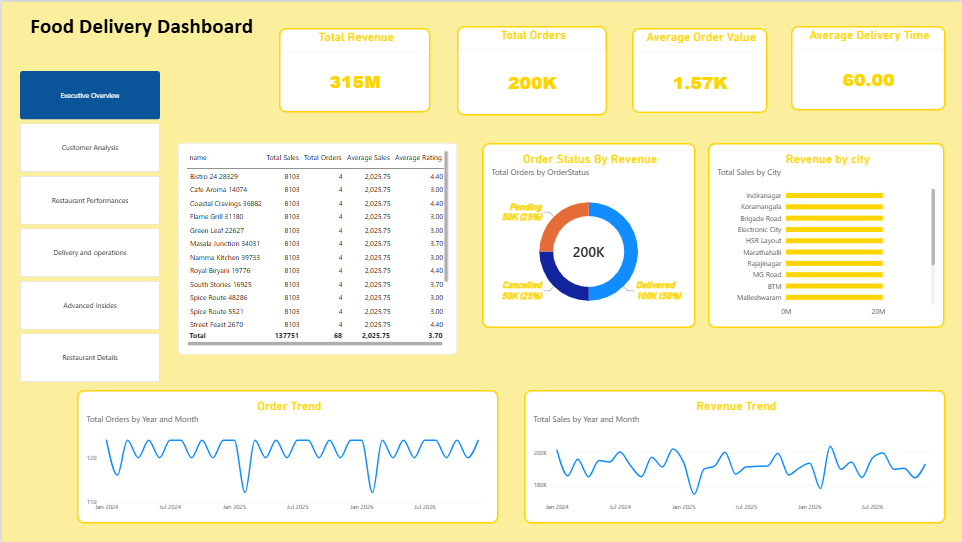

This screenshot's page, from the dashboard's own definition file:
{"tool":"powerbi","page":{"name":"Executive  Overview","canvas":[1920,1080],"ordinal":0},"visuals":[{"type":"cardVisual","title":"Total Revenue","fields":{"Data":["Orders.Total Sales"]},"box":[554.3,51.4,302.9,168.6],"z":0},{"type":"cardVisual","title":"Total Orders","fields":{"Data":["Orders.Total Orders"]},"box":[910,48.6,300,178.6],"z":1000},{"type":"cardVisual","title":"Average Order Value","fields":{"Data":["Orders.Average Orders"]},"box":[1260,52.9,271.4,170],"z":2000},{"type":"cardVisual","title":"Average Delivery Time","fields":{"Data":["Orders.Avg Delivery Time"]},"box":[1577.1,48.6,308.6,168.6],"z":3000},{"type":"donutChart","title":"Order Status By Revenue","fields":{"Category":["Orders.OrderStatus"],"Y":["Orders.Total Orders"]},"box":[960,282.5,426.7,370],"z":4000},{"type":"barChart","title":"Revenue by city","fields":{"Category":["Customers.City"],"Y":["Orders.Total Sales"]},"box":[1411.7,281.7,473.3,370],"z":5000},{"type":"lineChart","title":"Revenue Trend","fields":{"Category":["DateTable.Date.Variation.Date Hierarchy.Year","DateTable.Date.Variation.Date Hierarchy.Month"],"Y":["Orders.Total Sales"]},"box":[1043.3,776.7,843.3,266.7],"z":6000},{"type":"lineChart","title":"Order Trend","fields":{"Category":["DateTable.Date.Variation.Date Hierarchy.Year","DateTable.Date.Variation.Date Hierarchy.Month"],"Y":["Orders.Total Orders"]},"box":[150,776.7,843.3,266.7],"z":7000},{"type":"tableEx","fields":{"Values":["Restaurants.name","Orders.Total Sales","Orders.Total Orders","Orders.Average Sales","Orders.Average Rating"]},"box":[352.5,282.5,557.5,422.5],"z":8000},{"type":"textbox","box":[14,19,531,68],"z":8001},{"type":"pageNavigator","box":[35,137.5,280,625],"z":8002}]}

Visuals, with their boxes in screenshot pixels (x1, y1, x2, y2), scaled from the page's 1920x1080 canvas onto the 962x542 screenshot:
"Total Revenue" cardVisual: <bbox>278, 26, 429, 110</bbox>
"Total Orders" cardVisual: <bbox>456, 24, 606, 114</bbox>
"Average Order Value" cardVisual: <bbox>631, 27, 767, 112</bbox>
"Average Delivery Time" cardVisual: <bbox>790, 24, 945, 109</bbox>
"Order Status By Revenue" donutChart: <bbox>481, 142, 695, 327</bbox>
"Revenue by city" barChart: <bbox>707, 141, 944, 327</bbox>
"Revenue Trend" lineChart: <bbox>523, 390, 945, 524</bbox>
"Order Trend" lineChart: <bbox>75, 390, 498, 524</bbox>
tableEx - Restaurants.name x Orders.Total Sales: <bbox>177, 142, 456, 354</bbox>
textbox: <bbox>7, 10, 273, 44</bbox>
pageNavigator: <bbox>18, 69, 158, 383</bbox>
